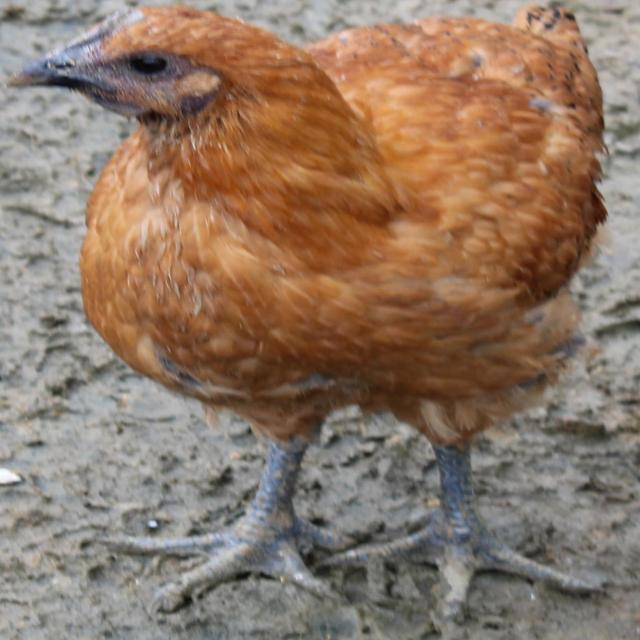hen: (12, 6, 606, 618)
